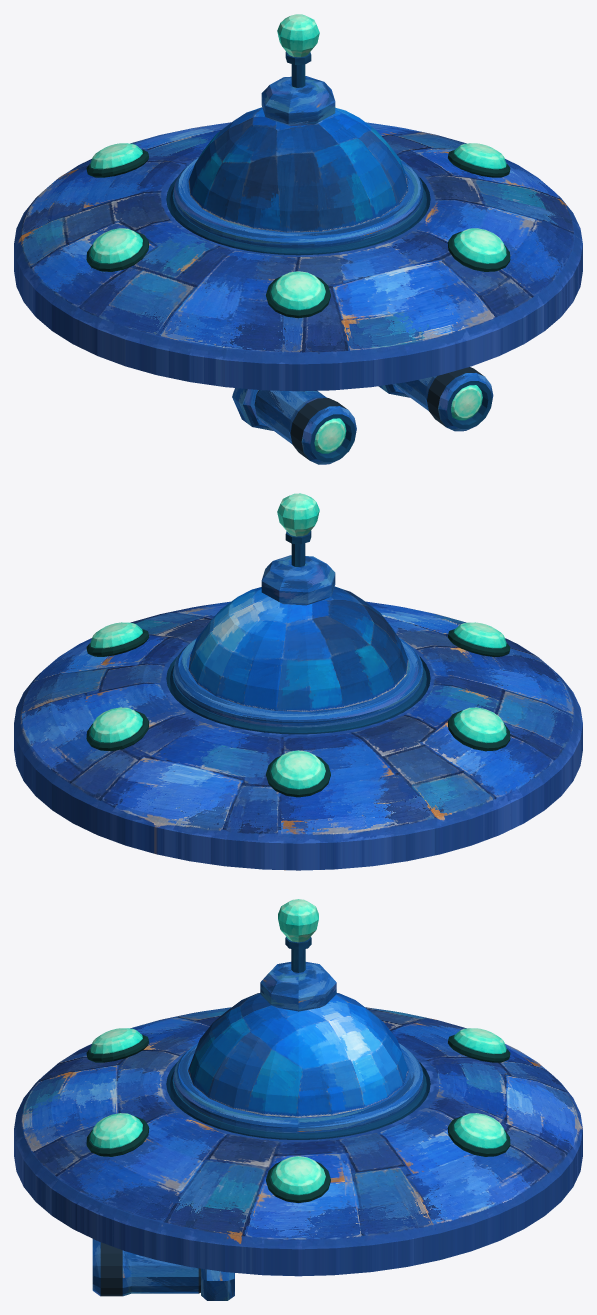
File: ufo-upgraded-parts.obj
3 renders of one model, top to bottom at view 1: azimuth 30°, elevation 25°; view 2: azimuth 150°, elevation 25°; view 3: azimuth 270°, elevation 25°, orthographic.
Parts seen in each view (by area): view 1: Outer_Ring, Dome, Laser_Barrel, Dome_Collar, Shield_Base, Bearing, Laser_Lens, Rim_Lens_03, Rim_Lens_02, Rim_Lens_04, Shield_Crystal, Laser_Base (+7 smaller); view 2: Outer_Ring, Dome, Dome_Collar, Shield_Base, Bearing, Rim_Lens_05, Rim_Lens_04, Rim_Lens_06, Shield_Crystal, Rim_Lens_01, Rim_Lens_03, Rim_Bezel_05 (+5 smaller); view 3: Outer_Ring, Dome, Dome_Collar, Laser_Barrel, Shield_Base, Bearing, Rim_Lens_01, Rim_Lens_02, Rim_Lens_06, Shield_Crystal, Laser_Base, Rim_Lens_03 (+7 smaller).
Part boxes in pixels (left/top/right/bottom): Outer_Ring: left=14, top=122, right=582, bottom=391; Dome: left=188, top=107, right=408, bottom=232; Laser_Barrel: left=254, top=367, right=493, bottom=464; Dome_Collar: left=173, top=158, right=423, bottom=248; Shield_Base: left=261, top=76, right=335, bottom=126; Bearing: left=170, top=186, right=426, bottom=255; Laser_Lens: left=314, top=385, right=482, bottom=453; Rim_Lens_03: left=271, top=271, right=325, bottom=310; Rim_Lens_02: left=454, top=228, right=506, bottom=263; Rim_Lens_04: left=90, top=228, right=142, bottom=263; Shield_Crystal: left=277, top=14, right=319, bottom=57; Laser_Base: left=232, top=384, right=409, bottom=430; Outer_Ring: left=14, top=601, right=582, bottom=870; Dome: left=188, top=586, right=408, bottom=711; Dome_Collar: left=173, top=637, right=423, bottom=727; Shield_Base: left=261, top=555, right=335, bottom=605; Bearing: left=170, top=665, right=426, bottom=734; Rim_Lens_05: left=271, top=750, right=325, bottom=789; Rim_Lens_04: left=454, top=707, right=506, bottom=743; Rim_Lens_06: left=90, top=707, right=142, bottom=743; Shield_Crystal: left=277, top=493, right=319, bottom=536; Rim_Lens_01: left=90, top=622, right=142, bottom=648; Rim_Lens_03: left=454, top=622, right=506, bottom=648; Rim_Bezel_05: left=266, top=756, right=330, bottom=797; Outer_Ring: left=14, top=1007, right=582, bottom=1276; Dome: left=188, top=993, right=408, bottom=1117; Dome_Collar: left=173, top=1043, right=423, bottom=1133; Laser_Barrel: left=92, top=1239, right=200, bottom=1296; Shield_Base: left=260, top=962, right=336, bottom=1011; Bearing: left=170, top=1071, right=426, bottom=1139; Rim_Lens_01: left=271, top=1156, right=325, bottom=1195; Rim_Lens_02: left=90, top=1113, right=142, bottom=1148; Rim_Lens_06: left=454, top=1113, right=506, bottom=1148; Shield_Crystal: left=278, top=899, right=318, bottom=942; Laser_Base: left=201, top=1268, right=234, bottom=1300; Rim_Lens_03: left=90, top=1028, right=142, bottom=1053.
Size of the model in its own units: 2.6 by 1.84 by 2.6.
9 materials, 7 textured.
